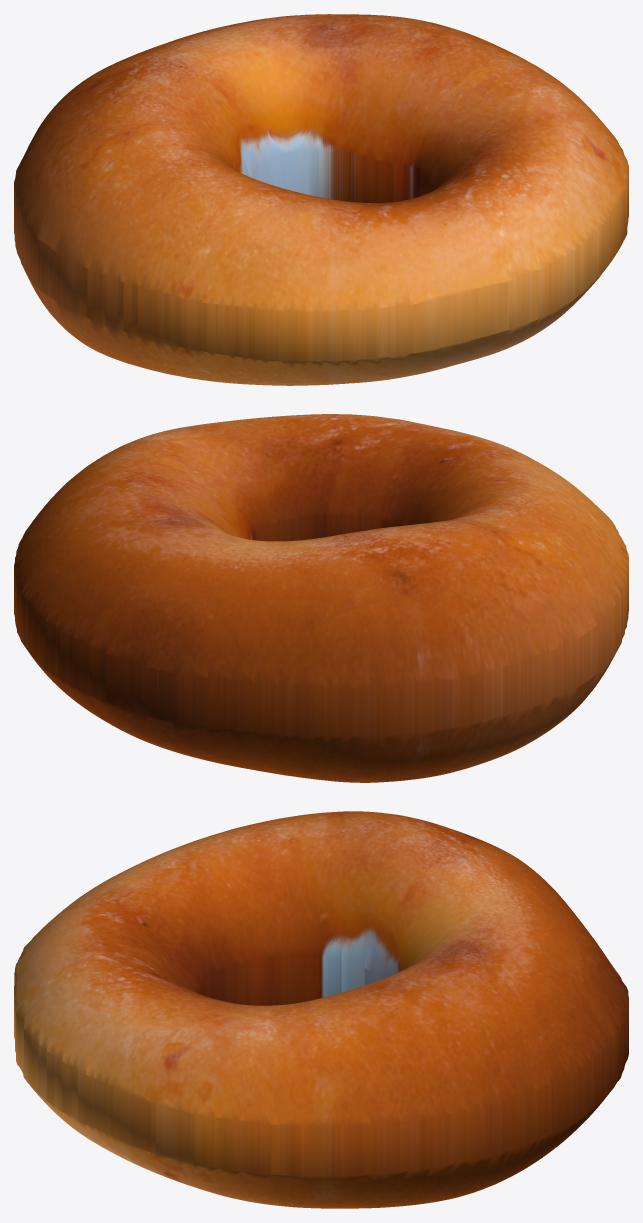
Rendered from donut_1_0.obj.
3 views of the same model, one above another, from view 1: azimuth 30°, elevation 25°; view 2: azimuth 150°, elevation 25°; view 3: azimuth 270°, elevation 25° (orthographic). The views are drawn at different scales.
Parts seen in each view (by area): view 1: Grid; view 2: Grid; view 3: Grid.
Part boxes in pixels (bbox=[...]): Grid: bbox=[14, 14, 628, 385]; Grid: bbox=[14, 414, 628, 782]; Grid: bbox=[14, 811, 628, 1208].
Bounding box in the file's own units: 1.64 × 0.6963 × 1.58.
